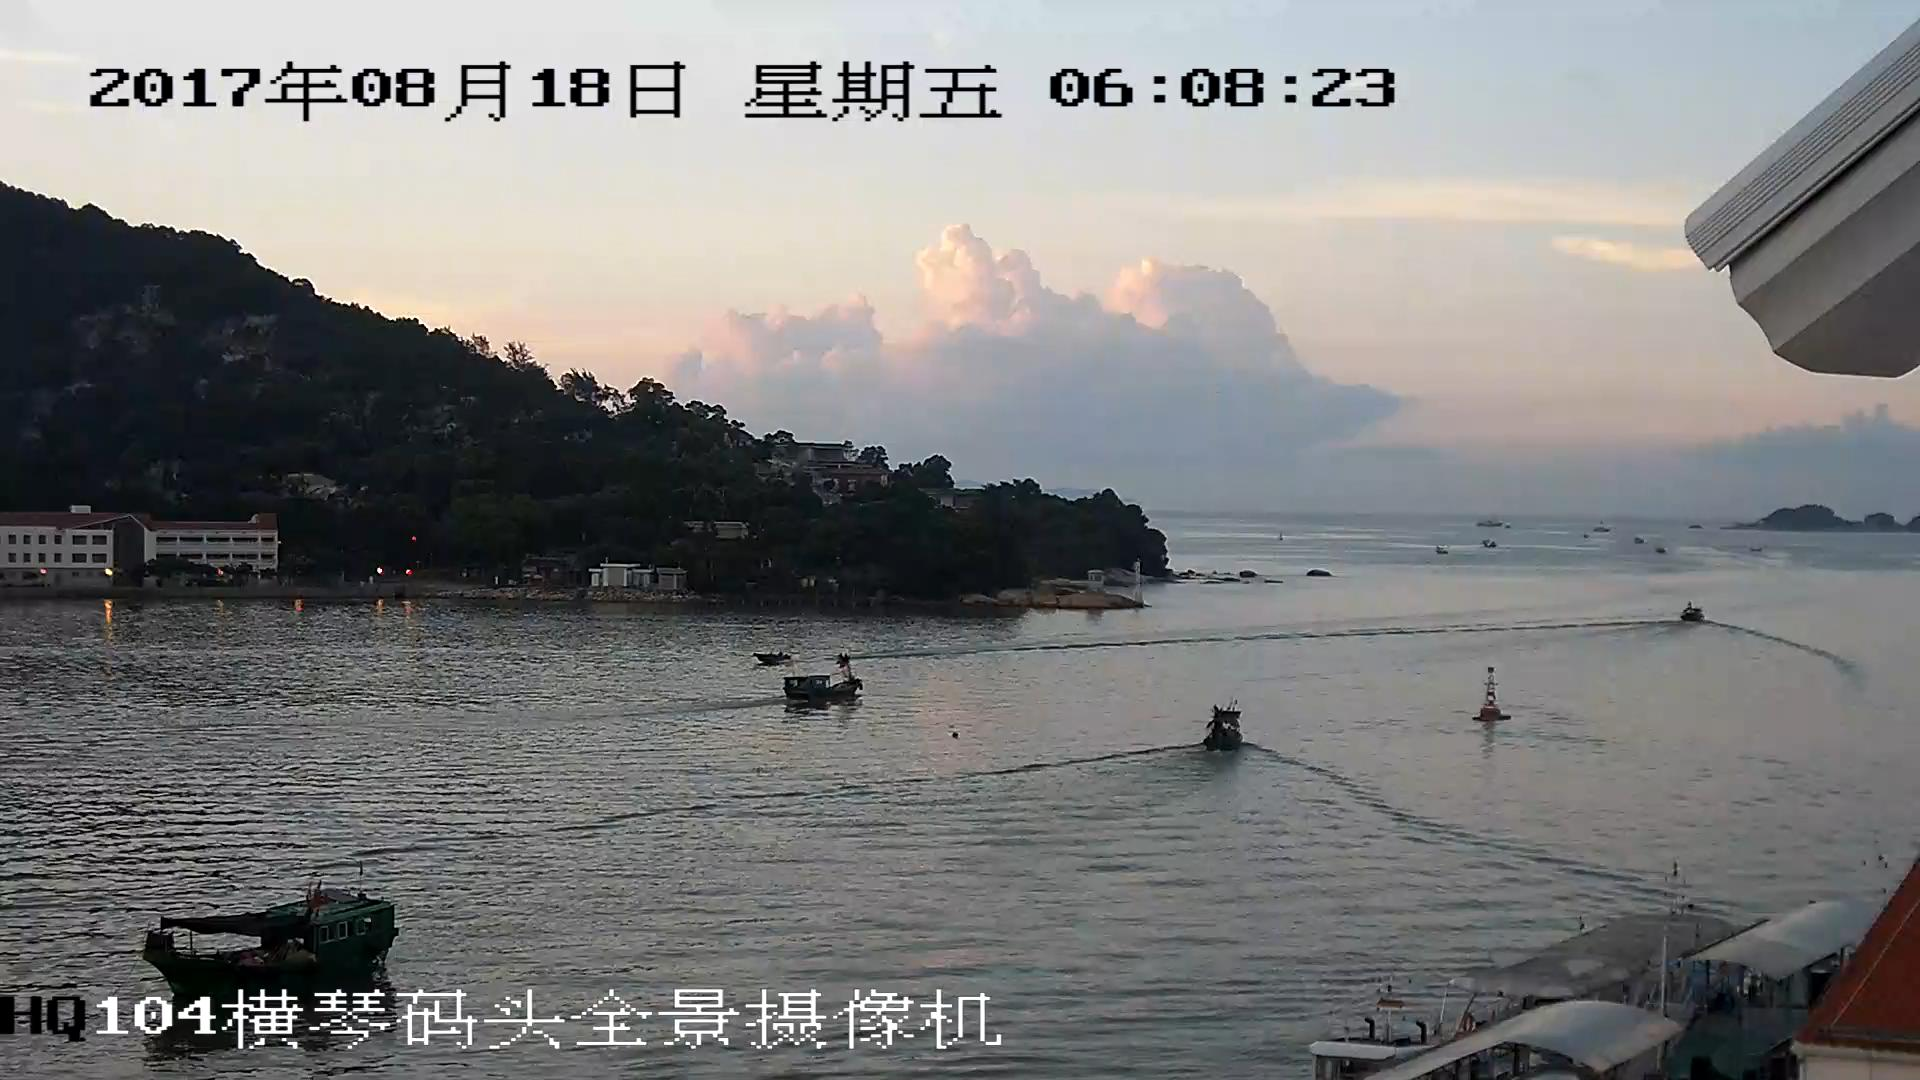fishing boat: (141, 886, 404, 992), (782, 665, 868, 701), (1200, 702, 1241, 747)
